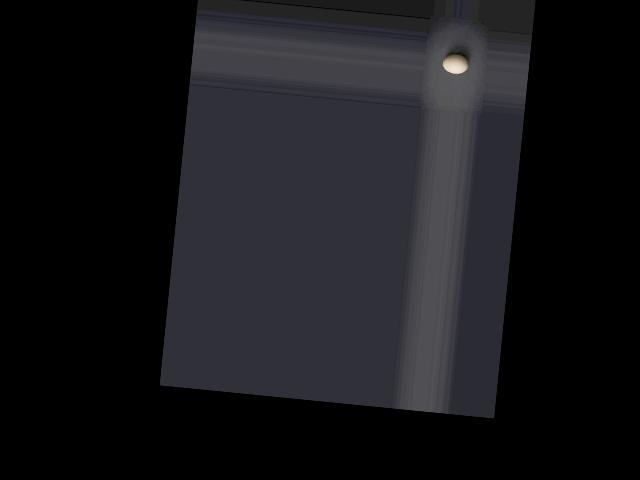egg: (441, 54, 469, 75)
